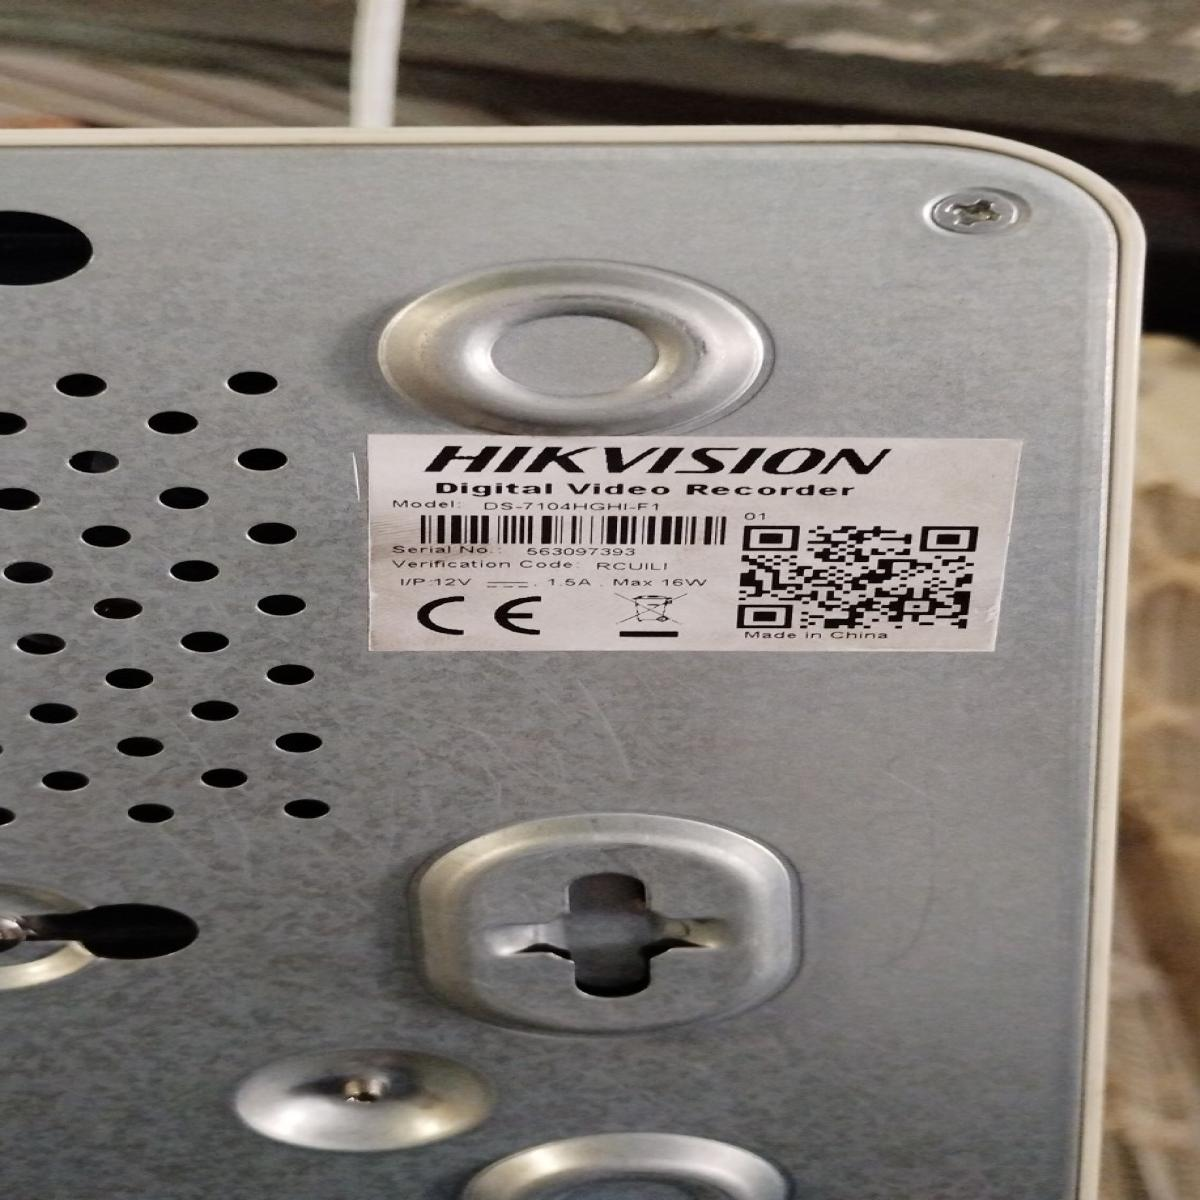Barcode: (411, 512, 731, 548)
Label: (370, 433, 1015, 649)
